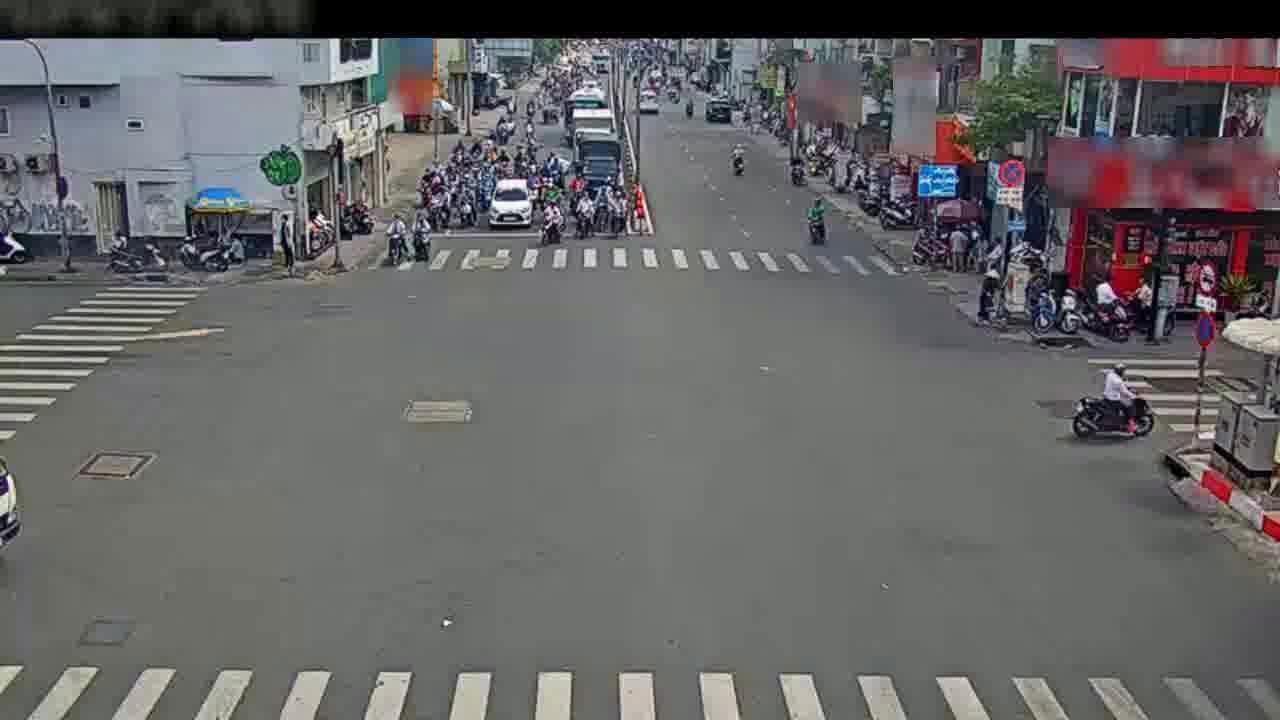container: (487, 176, 537, 232)
motorbike: (1072, 361, 1157, 443), (379, 203, 411, 272), (409, 201, 435, 270), (803, 190, 830, 254), (540, 193, 564, 255), (609, 188, 638, 239), (572, 185, 598, 241), (452, 178, 476, 234), (726, 135, 749, 183), (784, 142, 806, 191)
